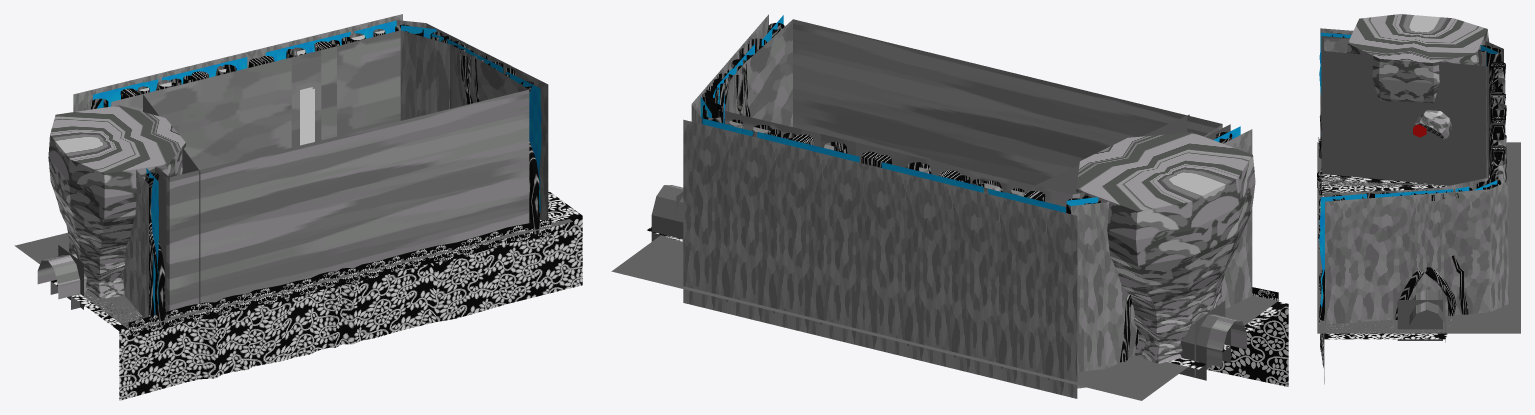
File: mri_11_bake_split.dae
3 views of the same model, side by side, from view 1: azimuth 30°, elevation 25°; view 2: azimuth 150°, elevation 25°; view 3: azimuth 270°, elevation 25° (orthographic). The views are drawn at different scales.
Visible parts, largest first — view 1: polySurface131, polySurface132_q00007_part1, polySurface110_q005, polySurface119_q007, polySurface118_q006, polySurface120_q008_VC, polySurface120_q008, A_yuka_01, A_ueki05, S_l_okuA_part1, S_oku_A, A_ueki03 (+16 smaller); view 2: S_oku_A, polySurface131, polySurface132_q00007_part1, S_l_okuA_part1, A_yuka_01, polySurface110_q005, S_r_okuC, S_oku_C_part0, S_r_okuA_part0, S_l_okuA_part0, S_oku_D, A_gra_l (+6 smaller); view 3: S_r_okuA_part1, A_sunomae, polySurface132_q00007_part1, A_yuka_01, S_r_okuC, polySurface131, S_yukaA02, S_oku_D, pPlane28, S_yukaA03, S_r_okuB_part0, pCylinder29_q00005_part1 (+8 smaller).
Part boxes in pixels (x1,y1,x2,y2): polySurface131: [111, 30, 529, 311]; polySurface132_q00007_part1: [48, 105, 185, 299]; polySurface110_q005: [119, 288, 328, 400]; polySurface119_q007: [429, 215, 582, 323]; polySurface118_q006: [328, 264, 429, 347]; polySurface120_q008_VC: [128, 219, 551, 338]; polySurface120_q008: [128, 220, 551, 336]; A_yuka_01: [14, 219, 572, 329]; A_ueki05: [337, 39, 366, 136]; S_l_okuA_part1: [84, 97, 148, 337]; S_oku_A: [73, 14, 402, 111]; A_ueki03: [221, 69, 243, 164]; S_oku_A: [683, 119, 1077, 398]; polySurface131: [664, 19, 1222, 212]; polySurface132_q00007_part1: [1076, 132, 1255, 363]; S_l_okuA_part1: [1071, 129, 1252, 388]; A_yuka_01: [611, 235, 1279, 400]; polySurface110_q005: [1206, 304, 1288, 386]; S_r_okuC: [702, 23, 784, 123]; S_oku_C_part0: [733, 126, 1065, 212]; S_r_okuA_part0: [651, 185, 683, 241]; S_l_okuA_part0: [1179, 313, 1230, 380]; S_oku_D: [768, 129, 1045, 201]; A_gra_l: [1202, 313, 1246, 367]; S_r_okuA_part1: [1325, 181, 1508, 324]; A_sunomae: [1321, 50, 1489, 185]; polySurface132_q00007_part1: [1346, 14, 1489, 103]; A_yuka_01: [1317, 142, 1520, 333]; S_r_okuC: [1319, 178, 1501, 320]; polySurface131: [1324, 38, 1487, 324]; S_yukaA02: [1319, 139, 1489, 196]; S_oku_D: [1490, 61, 1506, 182]; pPlane28: [1397, 300, 1442, 340]; S_yukaA03: [1324, 319, 1451, 339]; S_r_okuB_part0: [1319, 186, 1469, 307]; pCylinder29_q00005_part1: [1415, 110, 1451, 139].
Bounding box in the file's own units: 108 × 45 × 45.03.
